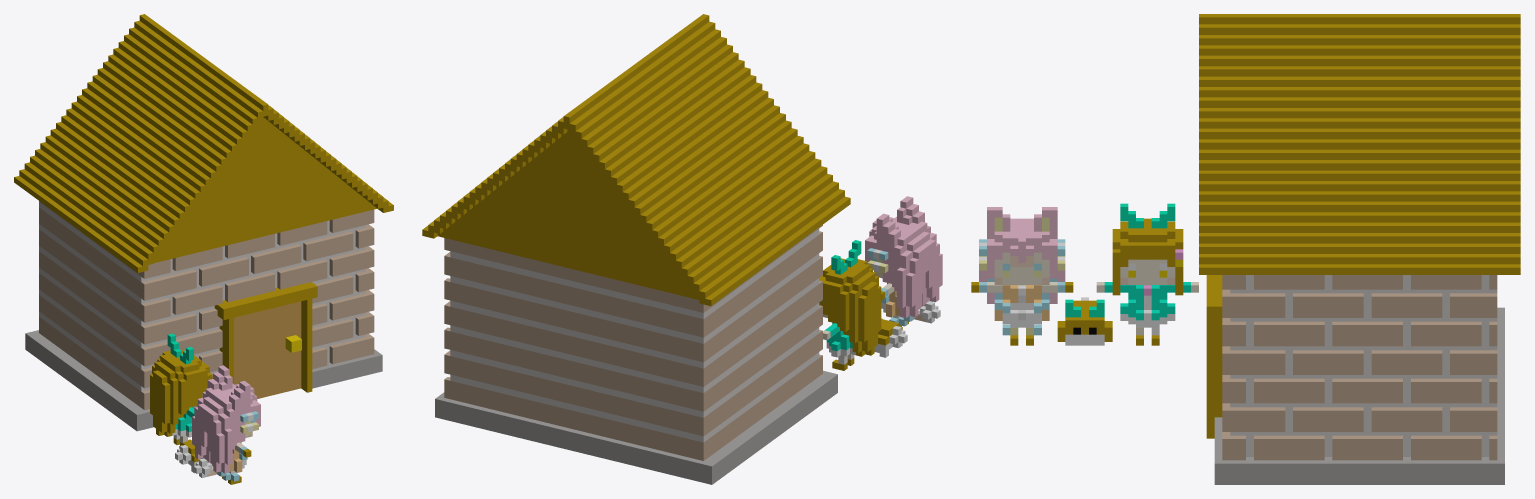
File: all.gltf
The picture shows the model from 3 angles, left to right: view 1: azimuth 30°, elevation 25°; view 2: azimuth 150°, elevation 25°; view 3: azimuth 270°, elevation 25°; orthographic projection. The views are drawn at different scales.
Bounding box in the file's own units: 51 × 55 × 70.
